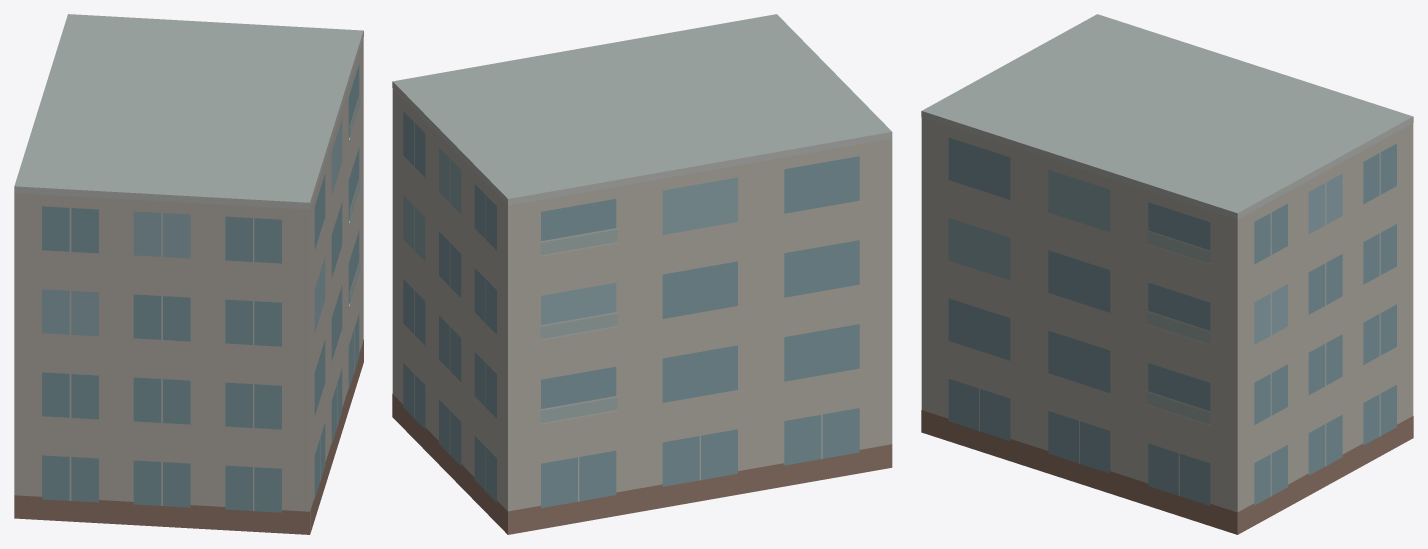
The model's file is residential-5f82d879-364b-4709-a935-9abe0866ff93.glb.
3 renders of one model, left to right at view 1: azimuth 30°, elevation 25°; view 2: azimuth 150°, elevation 25°; view 3: azimuth 270°, elevation 25°, orthographic. The views are drawn at different scales.
Visible parts, largest first — view 1: residential-5f82d879-364b-4709-a935-9abe0866ff93.tmp; view 2: residential-5f82d879-364b-4709-a935-9abe0866ff93.tmp; view 3: residential-5f82d879-364b-4709-a935-9abe0866ff93.tmp.
Boxes of the visible parts, x1=… form: residential-5f82d879-364b-4709-a935-9abe0866ff93.tmp: x1=14, y1=14, x2=363, y2=534; residential-5f82d879-364b-4709-a935-9abe0866ff93.tmp: x1=392, y1=14, x2=892, y2=534; residential-5f82d879-364b-4709-a935-9abe0866ff93.tmp: x1=921, y1=14, x2=1413, y2=534.
Size of the model in its own units: 16.22 by 12.2 by 16.92.
